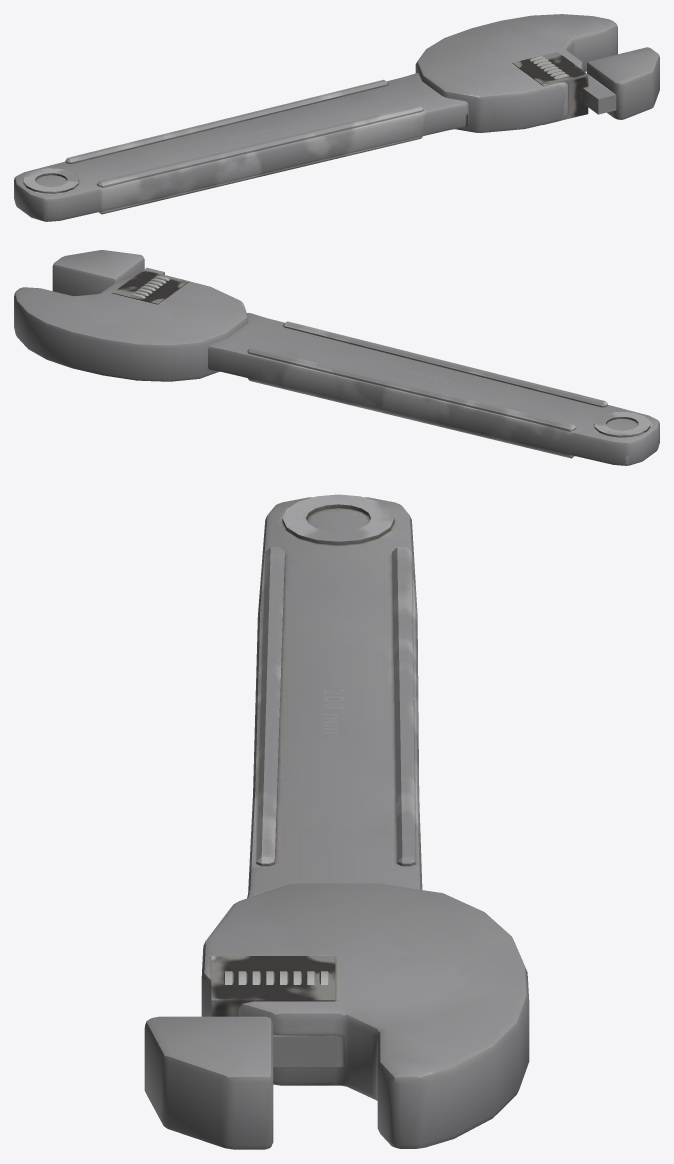
Rendered from chave_inglesa.glb.
The picture shows the model from 3 angles, top to bottom: view 1: azimuth 30°, elevation 25°; view 2: azimuth 150°, elevation 25°; view 3: azimuth 270°, elevation 25°; orthographic projection. The views are drawn at different scales.
Parts seen in each view (by area): view 1: cabo, cabeca, mordente; view 2: cabo, cabeca, mordente; view 3: cabo, cabeca, mordente.
Part boxes in pixels (x1=…): cabo: x1=14, y1=73, x2=468, y2=221; cabeca: x1=415, y1=14, x2=617, y2=132; mordente: x1=530, y1=47, x2=659, y2=119; cabo: x1=208, y1=313, x2=659, y2=465; cabeca: x1=14, y1=267, x2=248, y2=381; mordente: x1=52, y1=250, x2=169, y2=298; cabo: x1=247, y1=494, x2=422, y2=898; cabeca: x1=201, y1=883, x2=529, y2=1148; mordente: x1=144, y1=971, x2=328, y2=1149.
Size of the model in its own units: 0.216 by 0.0142 by 0.059.
Materials: 1 (1 with a texture image).
